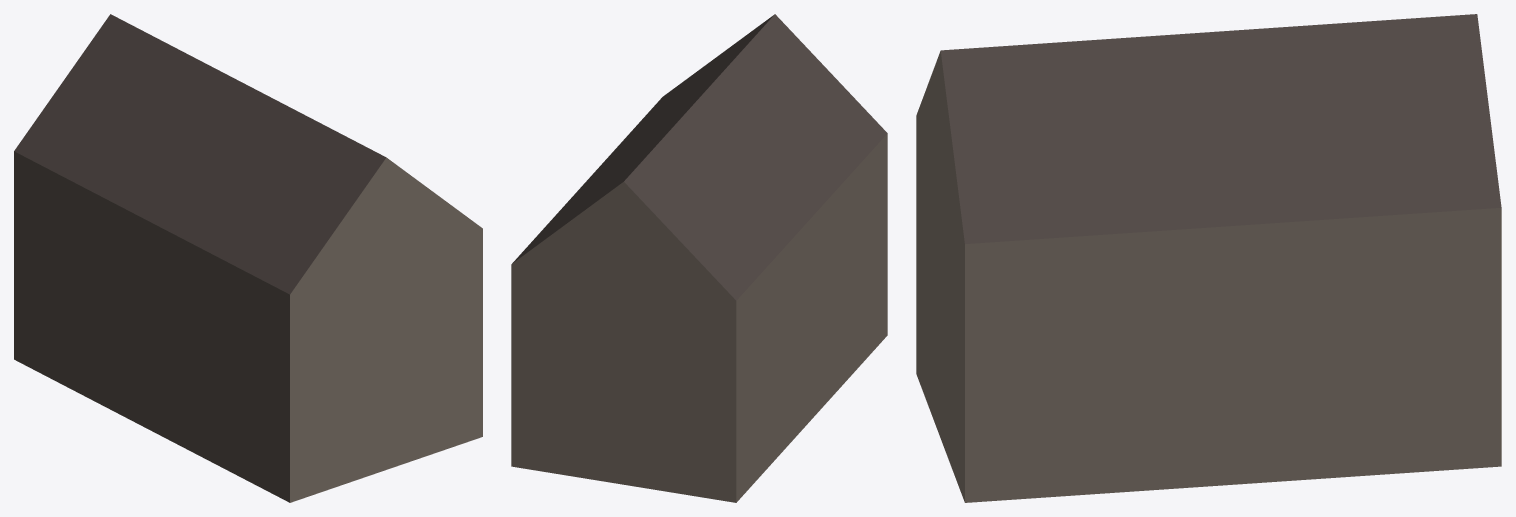
3 renders of one model, left to right at view 1: azimuth 30°, elevation 25°; view 2: azimuth 150°, elevation 25°; view 3: azimuth 270°, elevation 25°, orthographic. The views are drawn at different scales.
Visible parts, largest first — view 1: HP-w408450678; view 2: HP-w408450678; view 3: HP-w408450678.
Part boxes in pixels (bbox=[...]): HP-w408450678: bbox=[14, 14, 482, 502]; HP-w408450678: bbox=[511, 14, 887, 502]; HP-w408450678: bbox=[916, 14, 1501, 502].
Size of the model in its own units: 8.21 by 9 by 12.3.
